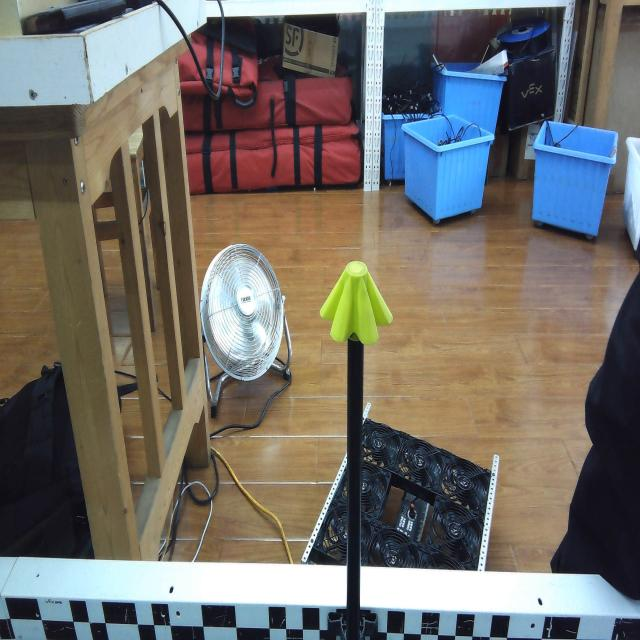Yellow-Stake-Head: (321, 261, 394, 346)
